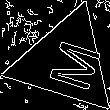M_W: (33, 32, 98, 92)
